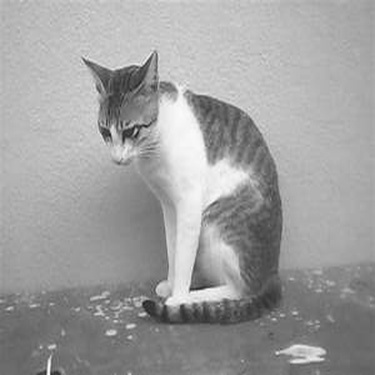cat: (78, 48, 284, 327)
